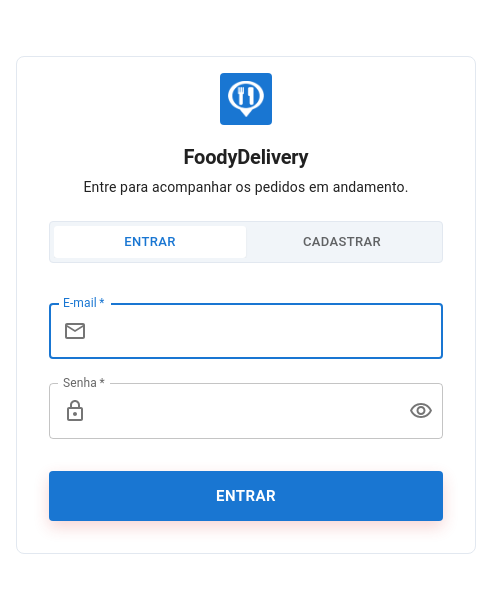
Scenario: LoginPage › alterna para cadastro e mostra o campo de nome
Click the tab "Cadastrar": point(342, 242) [246,226,438,258]
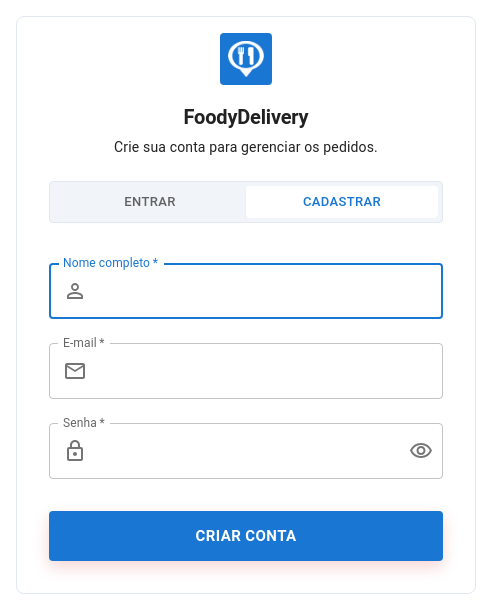
Now the field labelled "Nome completo *" is shown, box [95,263,443,319]
Now the button "Criar conta" is shown, box [49,511,443,561]
